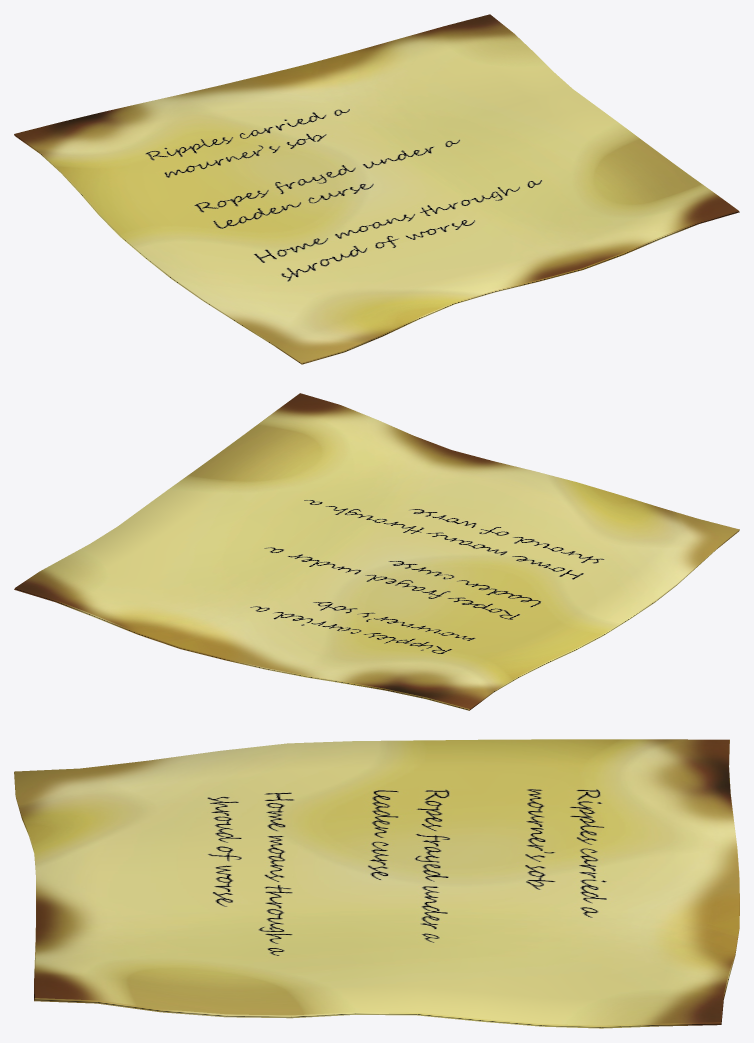
The model's file is Paper7.glb.
3 views of the same model, one above another, from view 1: azimuth 30°, elevation 25°; view 2: azimuth 150°, elevation 25°; view 3: azimuth 270°, elevation 25° (orthographic). The views are drawn at different scales.
Parts seen in each view (by area): view 1: Plane; view 2: Plane; view 3: Plane.
Part boxes in pixels (bbox=[...]): Plane: bbox=[14, 14, 739, 364]; Plane: bbox=[14, 393, 739, 710]; Plane: bbox=[14, 739, 739, 1028].
Bounding box in the file's own units: 0.8607 × 0.0672 × 0.8722.
1 material, 1 textured.
